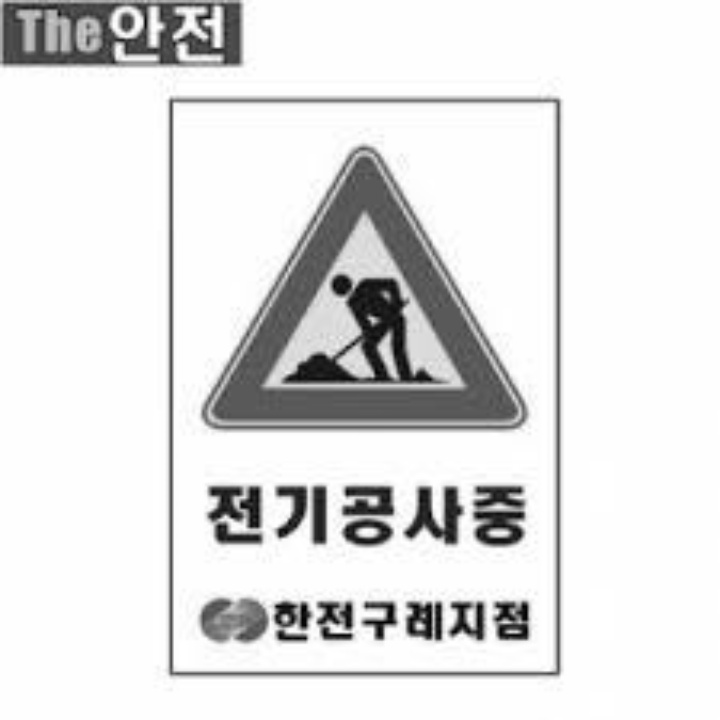const: (253, 215, 468, 394)
